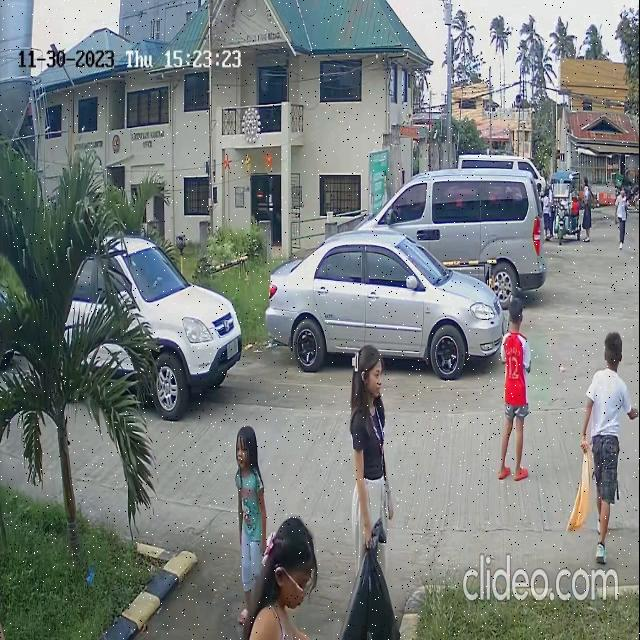human: (584, 331, 634, 572), (251, 502, 325, 640), (347, 339, 390, 551), (491, 298, 532, 498), (230, 422, 270, 544)
trash: (336, 527, 406, 640)
